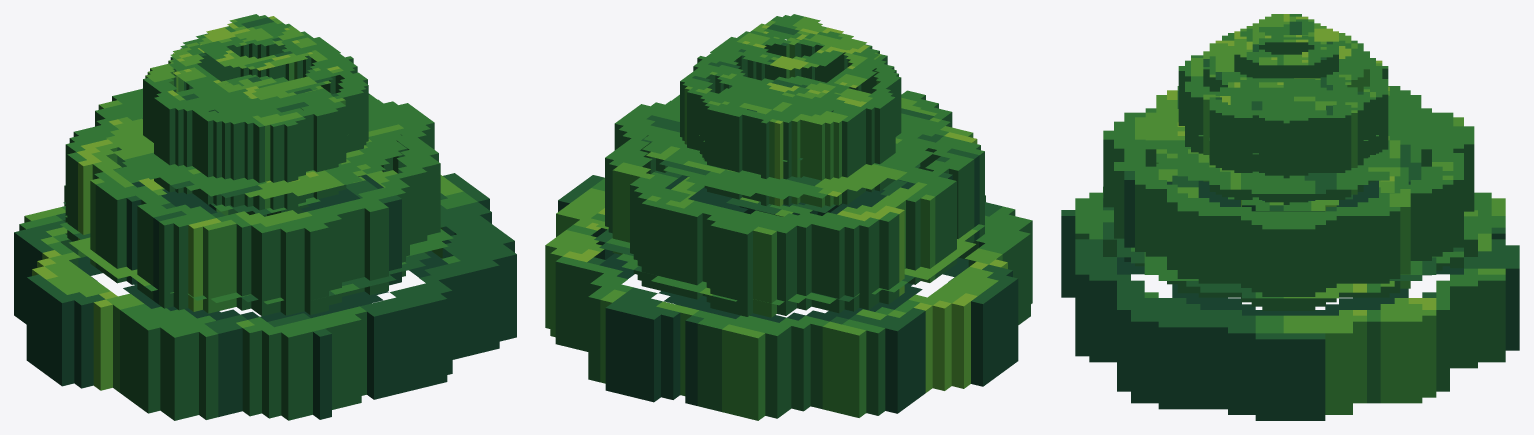
File: SM_Pixel_Bush.fbx
3 views of the same model, side by side, from view 1: azimuth 30°, elevation 25°; view 2: azimuth 150°, elevation 25°; view 3: azimuth 270°, elevation 25° (orthographic).
Visible parts, largest first — view 1: SM_Pixel_Bush; view 2: SM_Pixel_Bush; view 3: SM_Pixel_Bush.
Boxes of the visible parts, x1,y1,x2,y2 form: SM_Pixel_Bush: (14,14,516,420); SM_Pixel_Bush: (545,14,1032,420); SM_Pixel_Bush: (1061,14,1519,420).
Size of the model in its own units: 140 by 132 by 92.5.
Materials: 1 (1 with a texture image).
